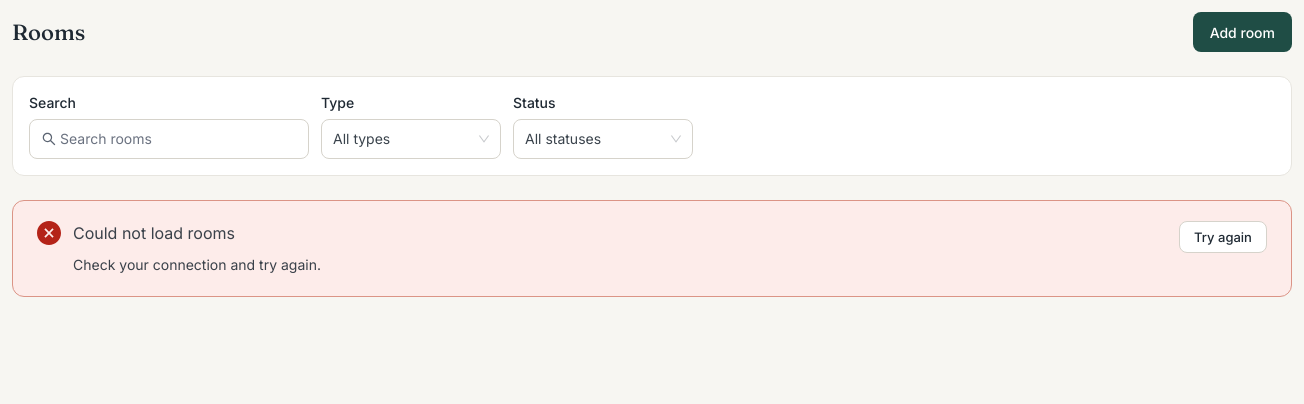
Test case: AdminRoomsView › renders skeleton rows, Empty with Clear filters, and error Alert with Try again
Earlier steps of the test are not shown.
Expected: the text "Could not load rooms" is shown, [73,223,235,243]
Click the button "Try again".
click(1223, 237)  # box [1179,221,1267,253]
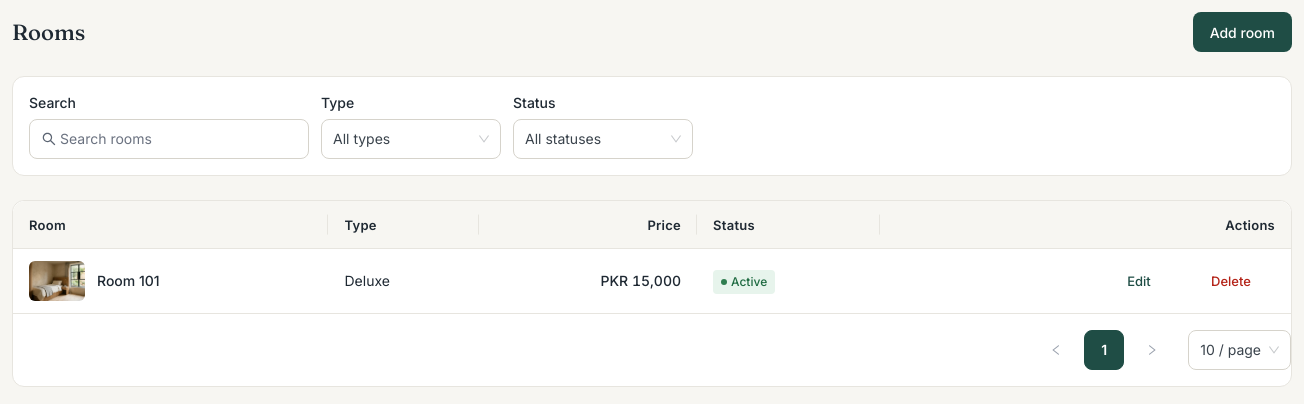
Expected: the text "Room 101" is shown, [97,270,160,292]
